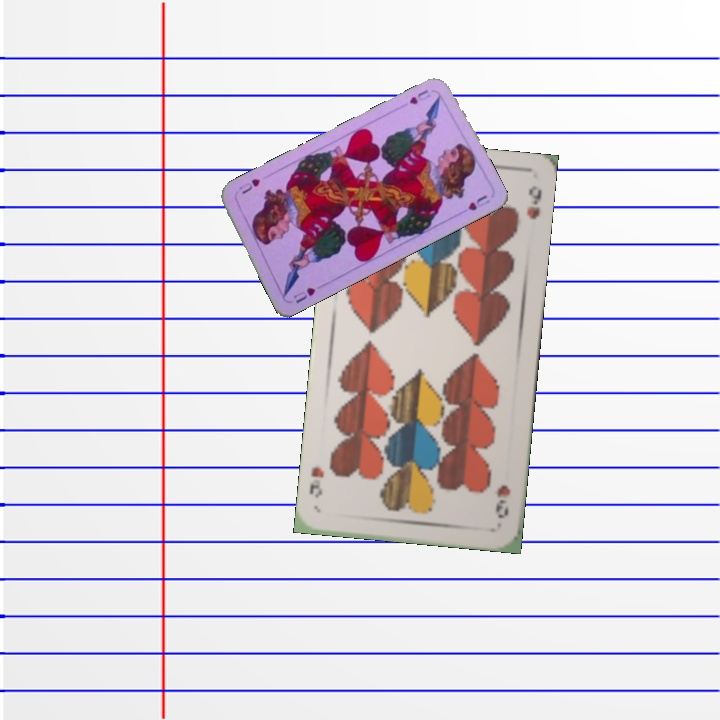H9: (491, 480, 513, 521)
HU: (289, 283, 318, 306), (405, 85, 433, 107)
